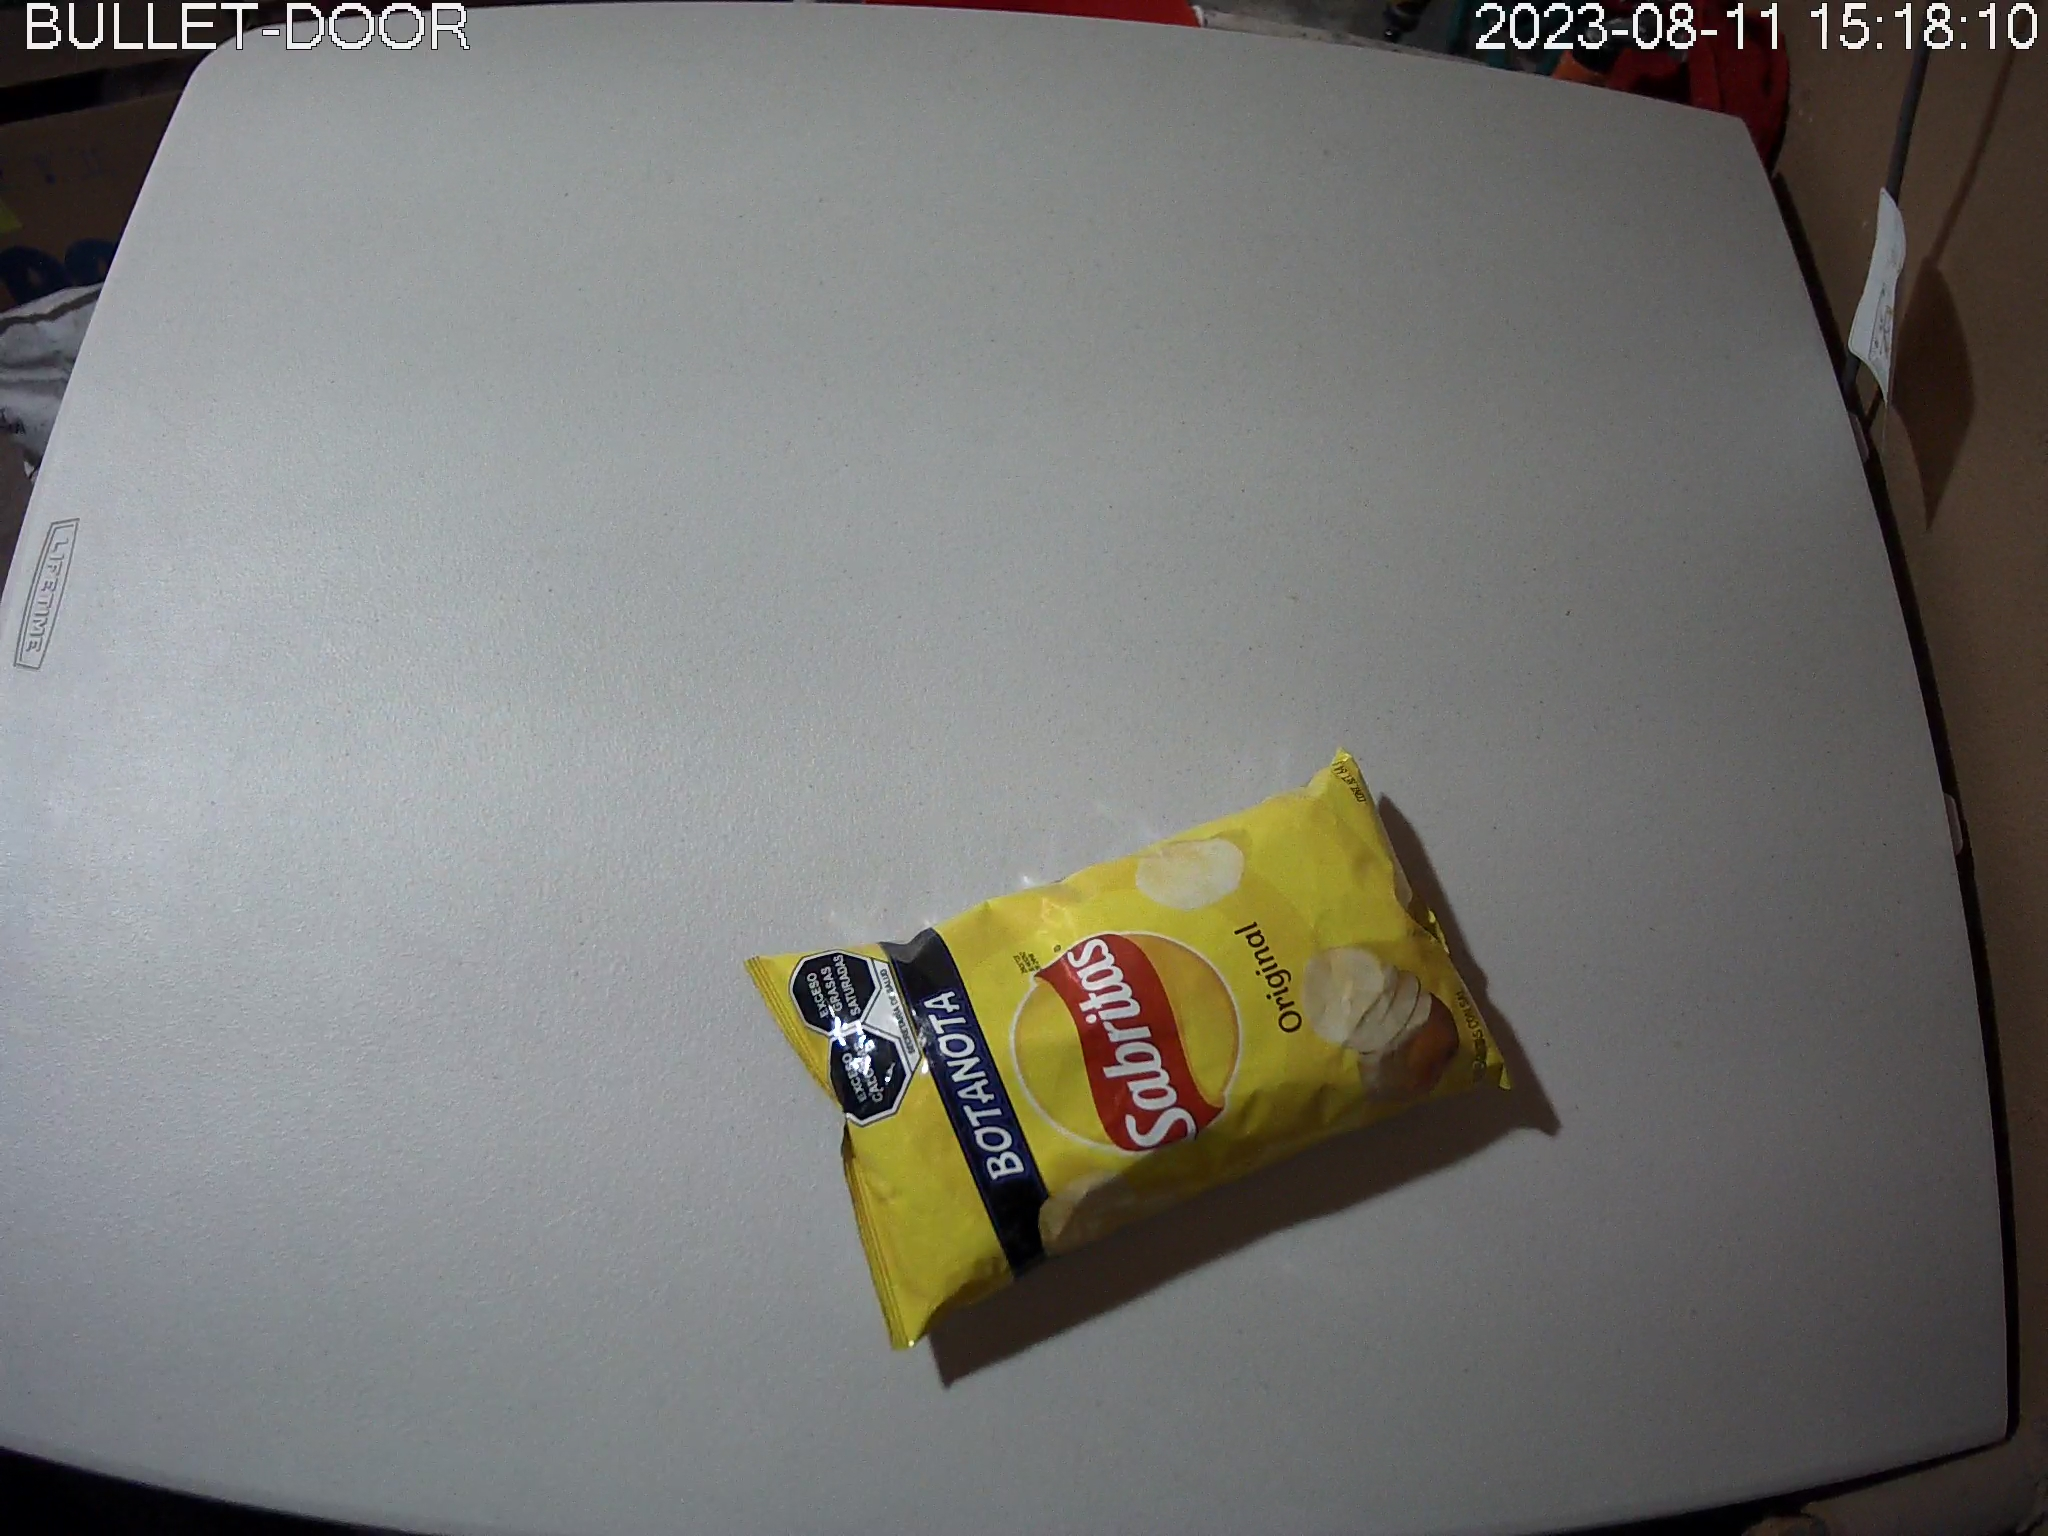Sabritas_64_F: (742, 747, 1522, 1350)
